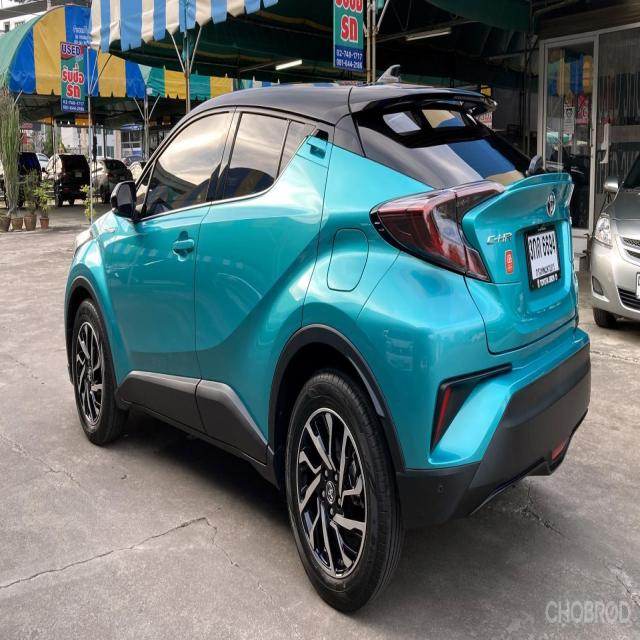license_plate: (524, 224, 562, 293)
